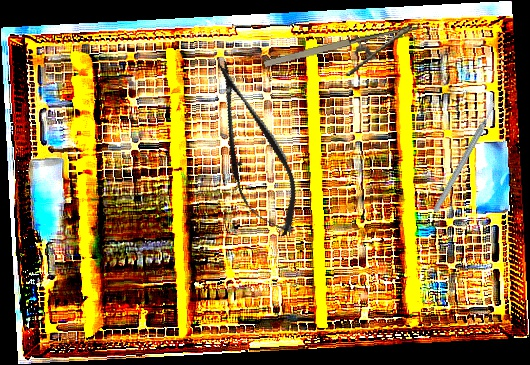Chopper: (398, 94, 530, 215)
Micro Scissor: (194, 52, 312, 246)
Needle Holder: (262, 22, 429, 93)
